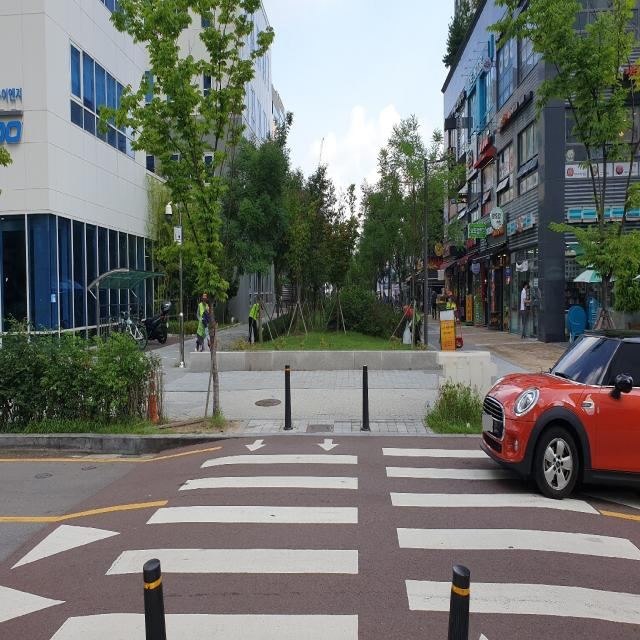횡단보도: (47, 438, 640, 640)
